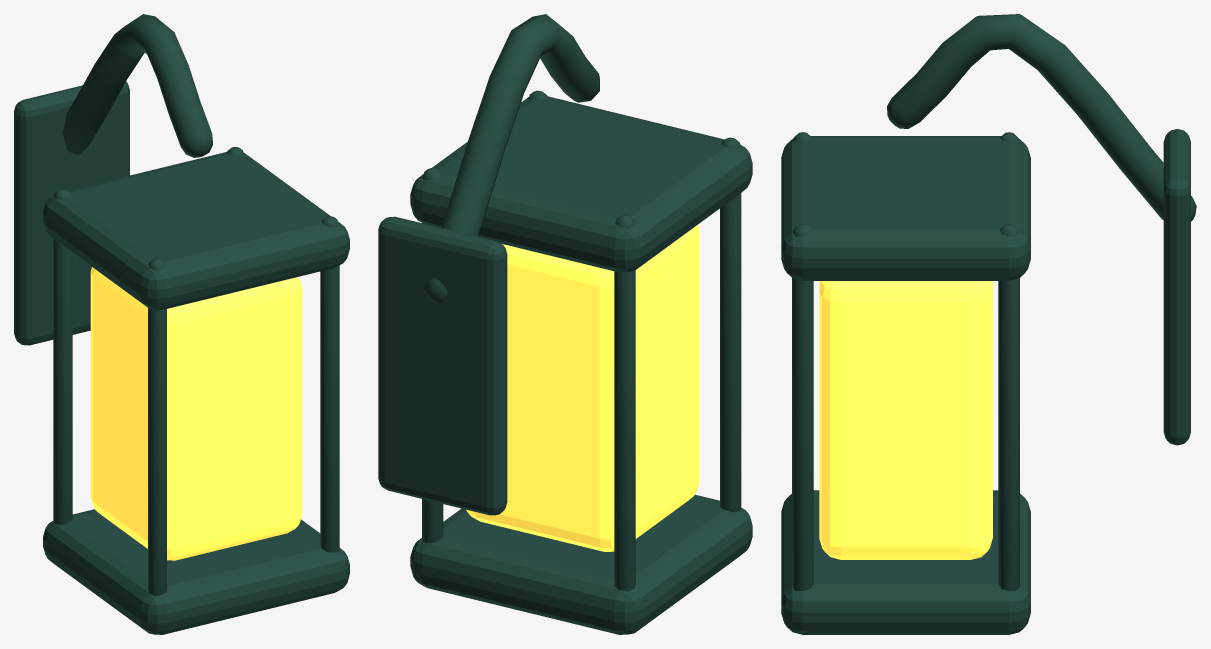
The model's file is wall_lantern.glb.
3 renders of one model, left to right at view 1: azimuth 30°, elevation 25°; view 2: azimuth 150°, elevation 25°; view 3: azimuth 270°, elevation 25°, orthographic. The views are drawn at different scales.
Parts seen in each view (by area): view 1: Amber_glass, Cap.001, Cap, Wall_plate, Curved_bracket, Cage.003, Cage, Cage.001; view 2: Amber_glass, Wall_plate, Cap.001, Cap, Curved_bracket, Cage, Cage.001, Cage.002; view 3: Amber_glass, Cap.001, Cap, Curved_bracket, Wall_plate, Cage.002, Cage.003.
Boxes of the visible parts, x1,y1,x2,y2 form: Amber_glass: (90, 267, 302, 560); Cap.001: (43, 152, 349, 309); Cap: (43, 509, 349, 634); Wall_plate: (14, 81, 129, 345); Curved_bracket: (62, 14, 212, 157); Cage.003: (320, 216, 339, 552); Cage: (53, 189, 72, 524); Cage.001: (148, 258, 166, 595); Amber_glass: (466, 225, 699, 551); Wall_plate: (378, 216, 507, 515); Cap.001: (410, 96, 752, 272); Cap: (410, 494, 752, 634); Curved_bracket: (424, 14, 599, 302); Cage: (614, 215, 635, 591); Cage.001: (720, 137, 741, 512); Cage.002: (422, 168, 443, 542); Amber_glass: (819, 281, 992, 559); Cap.001: (781, 136, 1030, 280); Cap: (781, 490, 1030, 634); Curved_bracket: (887, 14, 1196, 221); Wall_plate: (1163, 129, 1190, 445); Cage.002: (998, 224, 1019, 590); Cage.003: (792, 224, 813, 590).
Size of the model in its own units: 0.24 by 0.5817 by 0.3829.
